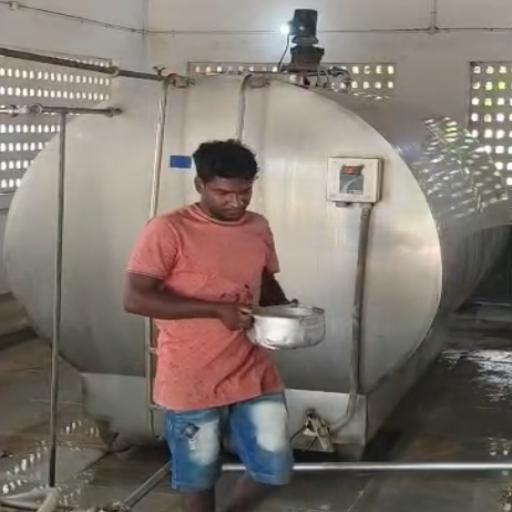silo: (2, 71, 511, 454)
vessel: (245, 303, 327, 351)
